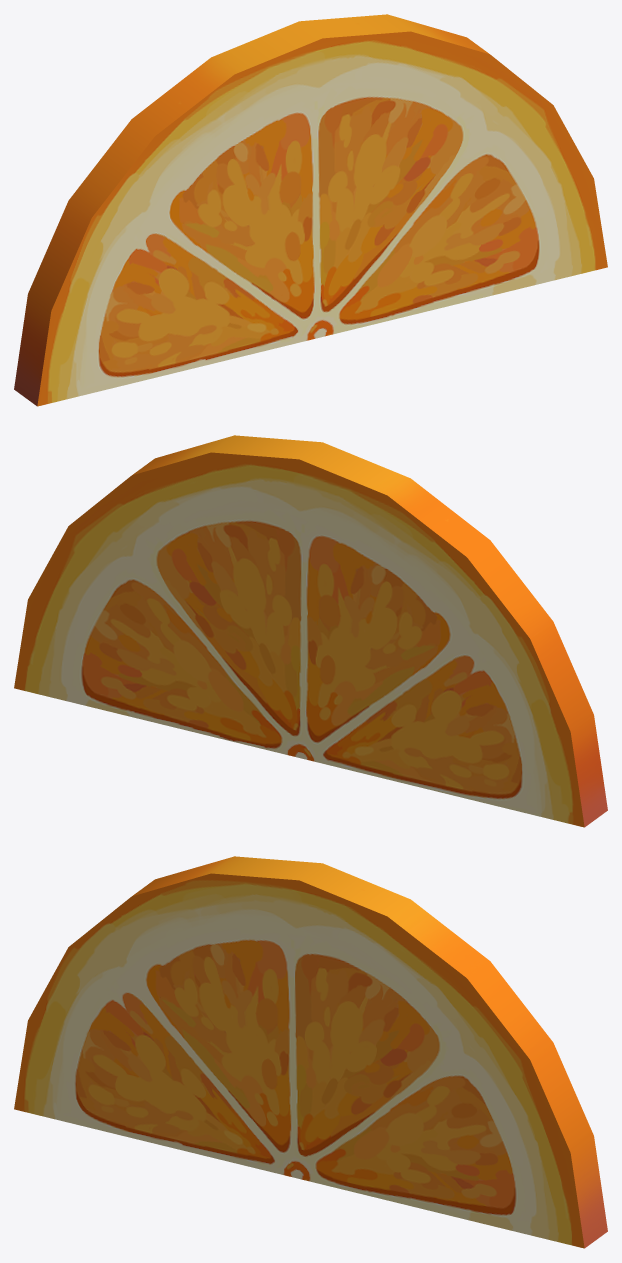
File: orange_sm.fbx
3 renders of one model, top to bottom at view 1: azimuth 30°, elevation 25°; view 2: azimuth 150°, elevation 25°; view 3: azimuth 330°, elevation 25°, orthographic.
Parts seen in each view (by area): view 1: Cylinder001; view 2: Cylinder001; view 3: Cylinder001.
Part boxes in pixels (x1,y1,x2,y2): Cylinder001: (14,14,607,406); Cylinder001: (14,435,607,827); Cylinder001: (14,856,607,1248).
Size of the model in its own units: 18.11 by 9.06 by 1.28.
